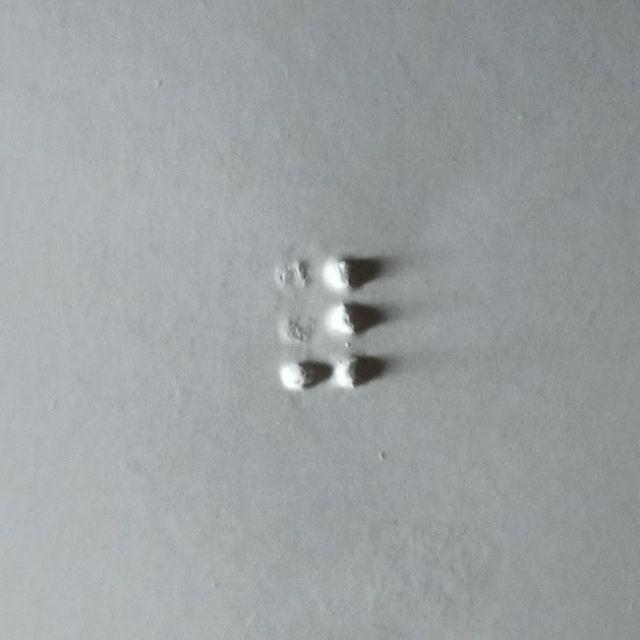at: (275, 255, 383, 391)
